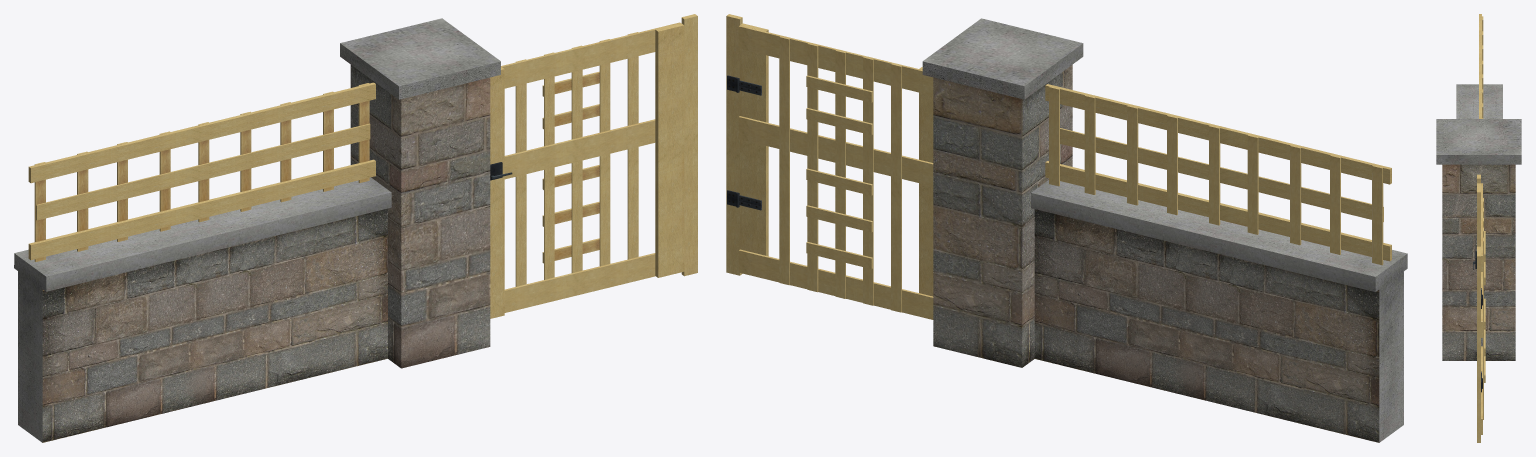
The model's file is wooden and concrete fence.FBX.
The picture shows the model from 3 angles, left to right: view 1: azimuth 30°, elevation 25°; view 2: azimuth 150°, elevation 25°; view 3: azimuth 270°, elevation 25°; orthographic projection. The views are drawn at different scales.
Visible parts, largest first — view 1: wooden_concrete_fence---wall, wooden_concrete_fence---colones, wooden_concrete_fence---gate, wooden_concrete_fence---wood, wooden_concrete_fence---gate_b; view 2: wooden_concrete_fence---wall, wooden_concrete_fence---colones, wooden_concrete_fence---gate, wooden_concrete_fence---wood, wooden_concrete_fence---gate_b; view 3: wooden_concrete_fence---colones, wooden_concrete_fence---wall, wooden_concrete_fence---gate, wooden_concrete_fence---gate_b, wooden_concrete_fence---wood.
Part boxes in pixels (<box>): wooden_concrete_fence---wall: <box>14,177,391,442</box>; wooden_concrete_fence---colones: <box>340,18,500,368</box>; wooden_concrete_fence---gate: <box>490,22,684,318</box>; wooden_concrete_fence---wood: <box>28,82,375,261</box>; wooden_concrete_fence---gate_b: <box>681,14,697,276</box>; wooden_concrete_fence---wall: <box>1031,180,1407,442</box>; wooden_concrete_fence---colones: <box>922,18,1083,367</box>; wooden_concrete_fence---gate: <box>738,23,933,319</box>; wooden_concrete_fence---wood: <box>1045,84,1391,265</box>; wooden_concrete_fence---gate_b: <box>726,14,742,275</box>; wooden_concrete_fence---colones: <box>1436,119,1521,360</box>; wooden_concrete_fence---wall: <box>1456,84,1502,118</box>; wooden_concrete_fence---gate: <box>1477,183,1485,434</box>; wooden_concrete_fence---gate_b: <box>1477,174,1480,442</box>; wooden_concrete_fence---wood: <box>1479,14,1483,118</box>.
Size of the model in its own units: 456 by 69.99 by 188.
